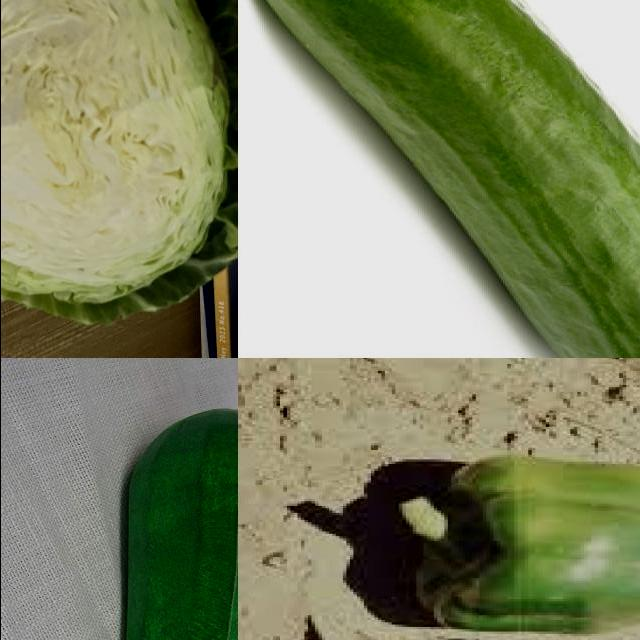bell_pepper: (383, 441, 640, 640)
cabbage: (1, 1, 238, 331)
cucumber: (247, 1, 640, 359)
zucchini: (103, 396, 238, 640)
